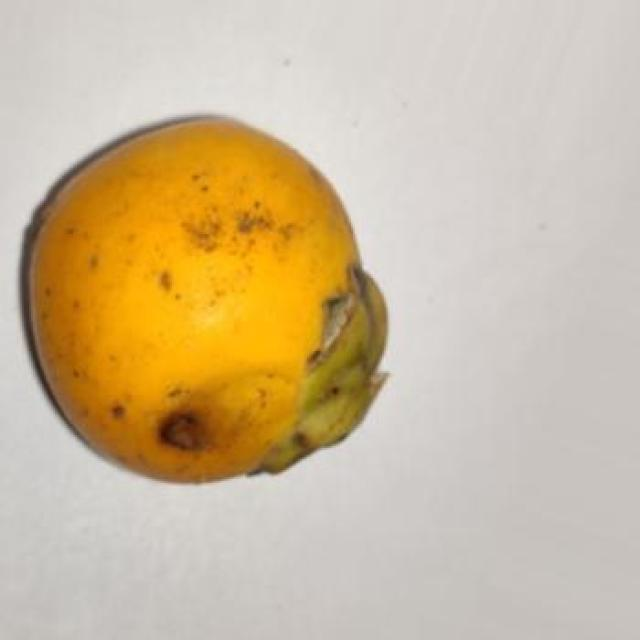good: (22, 115, 389, 488)
